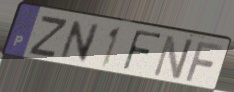1: (99, 25, 126, 71)
F: (121, 28, 165, 74), (184, 39, 226, 83)
N: (150, 33, 196, 82), (57, 20, 102, 65)
Z: (25, 15, 71, 60)
